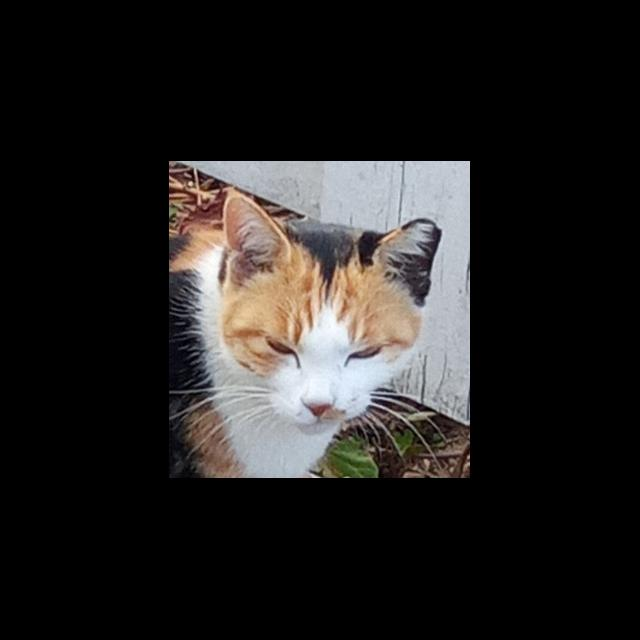animals: (211, 188, 446, 430)
